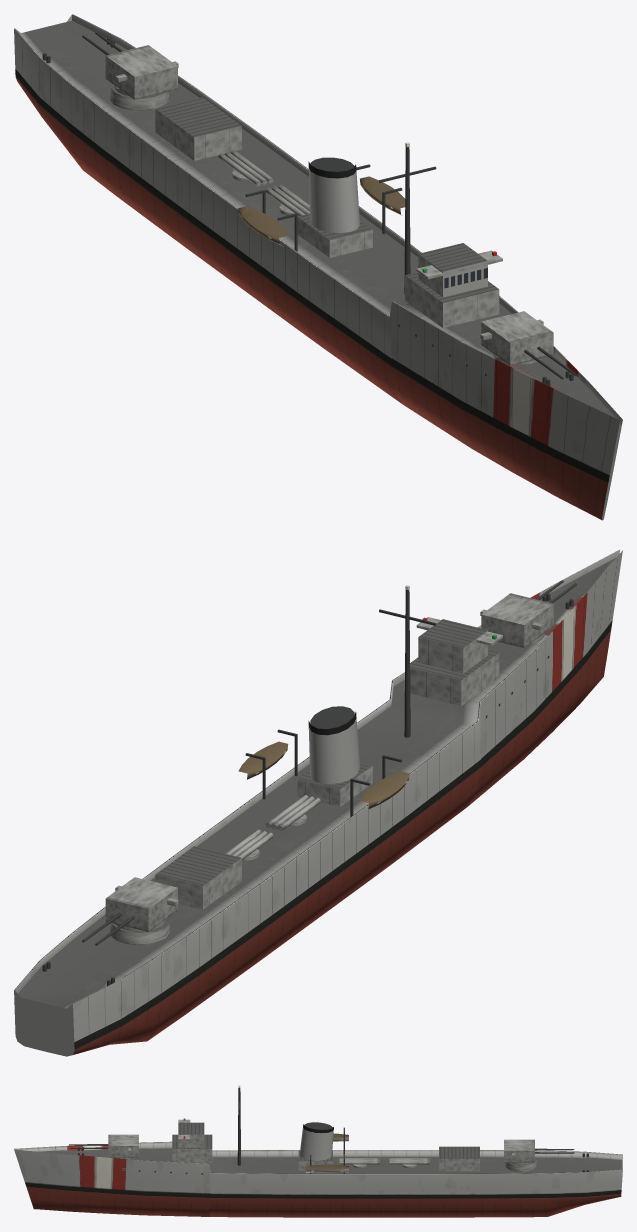
File: escort.glb
3 views of the same model, one above another, from view 1: azimuth 30°, elevation 25°; view 2: azimuth 150°, elevation 25°; view 3: azimuth 270°, elevation 25° (orthographic). The views are drawn at different scales.
Parts seen in each view (by area): view 1: hull, turret_2, turret_1, boat_right, boat_left; view 2: hull, turret_2, turret_1, boat_right, boat_left; view 3: hull, turret_2, turret_1, boat_left.
Part boxes in pixels (bbox=[...]): hull: bbox=[14, 14, 622, 520]; turret_2: bbox=[105, 45, 178, 99]; turret_1: bbox=[480, 311, 553, 365]; boat_right: bbox=[238, 206, 287, 245]; boat_left: bbox=[360, 176, 405, 215]; hull: bbox=[14, 549, 622, 1056]; turret_2: bbox=[105, 877, 178, 931]; turret_1: bbox=[480, 593, 553, 647]; boat_right: bbox=[360, 771, 409, 809]; boat_left: bbox=[238, 741, 288, 779]; hull: bbox=[14, 1085, 622, 1217]; turret_2: bbox=[504, 1139, 534, 1164]; turret_1: bbox=[108, 1134, 138, 1159]; boat_left: bbox=[306, 1164, 348, 1172].
Bounding box in the file's own units: 15.2 × 23.9 × 107.
5 materials, 5 textured.
